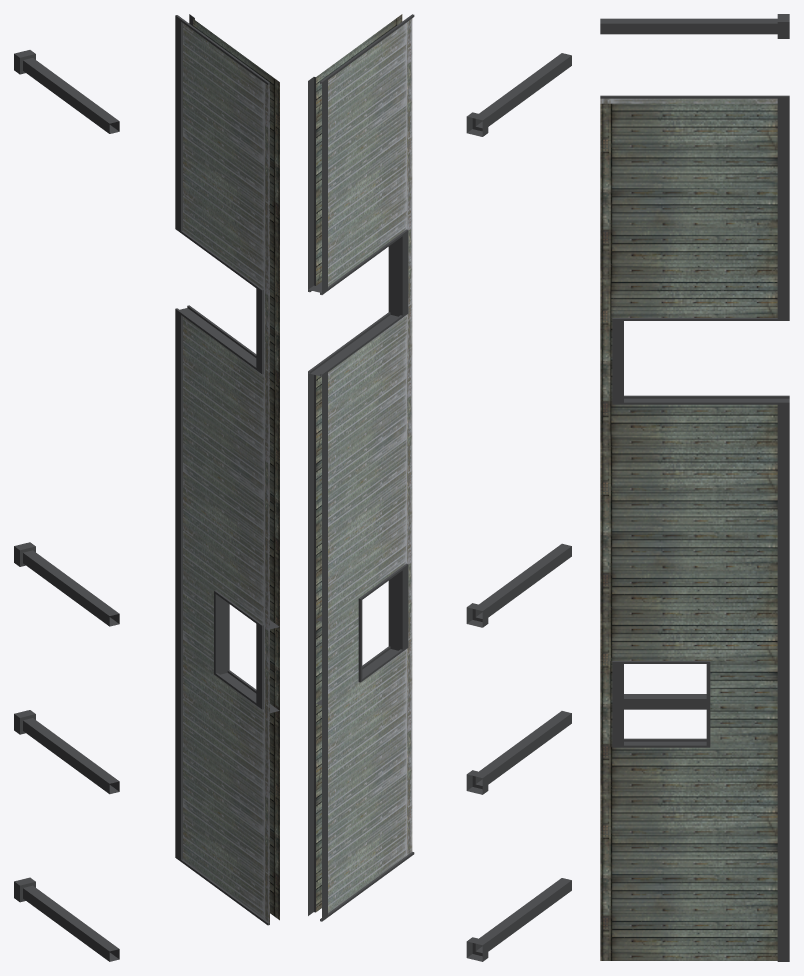
The model's file is tdr_h_shack.obj.
The picture shows the model from 3 angles, left to right: view 1: azimuth 30°, elevation 25°; view 2: azimuth 150°, elevation 25°; view 3: azimuth 270°, elevation 25°; orthographic projection. The views are drawn at different scales.
Visible parts, largest first — view 1: Cube; view 2: Cube; view 3: Cube.
Part boxes in pixels (box(x1,y1,x2,y2)): Cube: box(14, 14, 279, 961); Cube: box(308, 14, 571, 961); Cube: box(600, 14, 789, 961).
Bounding box in the file's own units: 1120 × 5158 × 1024.
3 materials, 3 textured.
